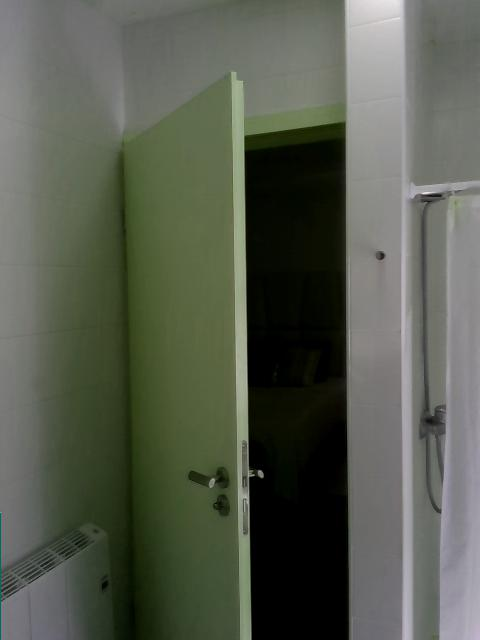semi_door: (121, 64, 349, 639)
